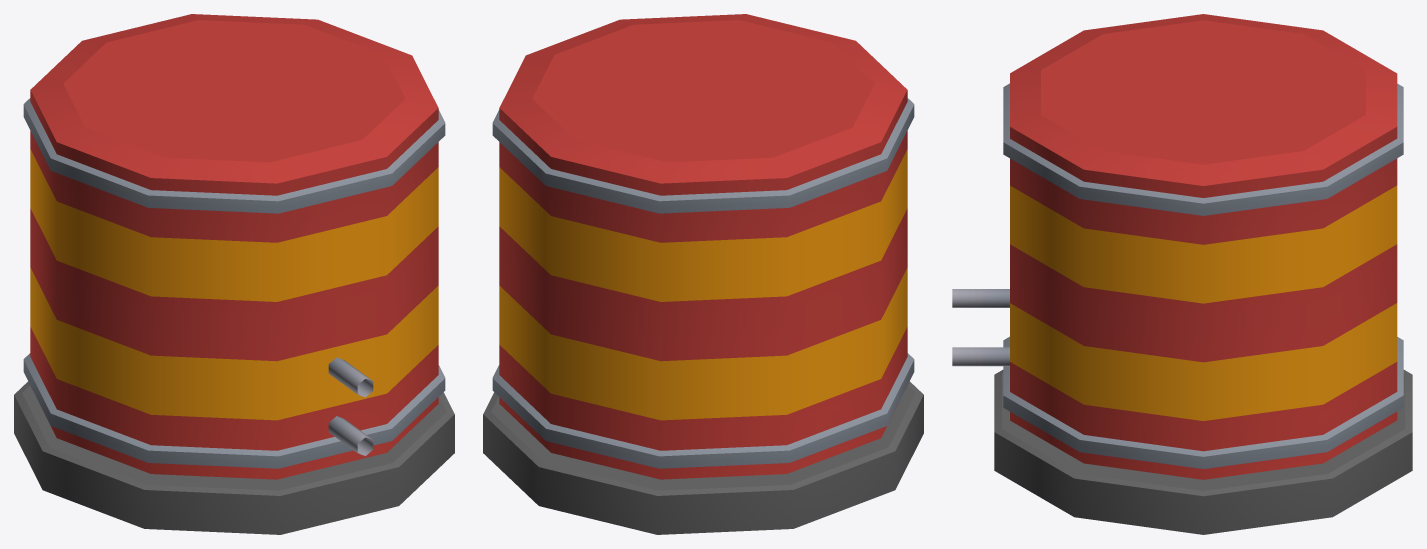
The model's file is GasTank_2_C.fbx.
The picture shows the model from 3 angles, left to right: view 1: azimuth 30°, elevation 25°; view 2: azimuth 150°, elevation 25°; view 3: azimuth 270°, elevation 25°; orthographic projection.
Visible parts, largest first — view 1: GasTank_2_C; view 2: GasTank_2_C; view 3: GasTank_2_C.
Part boxes in pixels (x1,y1,x2,y2): GasTank_2_C: (14,14,454,534); GasTank_2_C: (483,14,923,534); GasTank_2_C: (952,14,1412,534).
Size of the model in its own units: 900 by 790 by 942.
